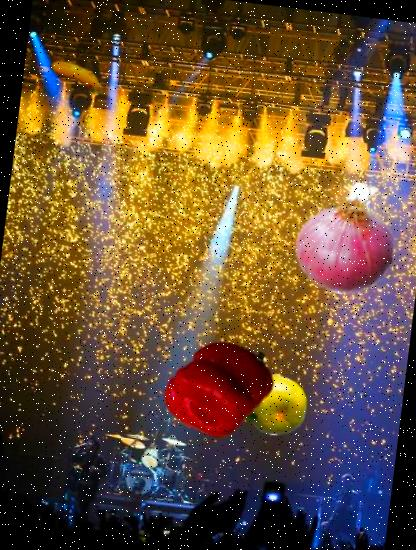Banana: (45, 48, 104, 107)
Onion: (284, 175, 410, 301)
Pepper: (164, 330, 278, 445)
Pomelo: (243, 371, 311, 439)
